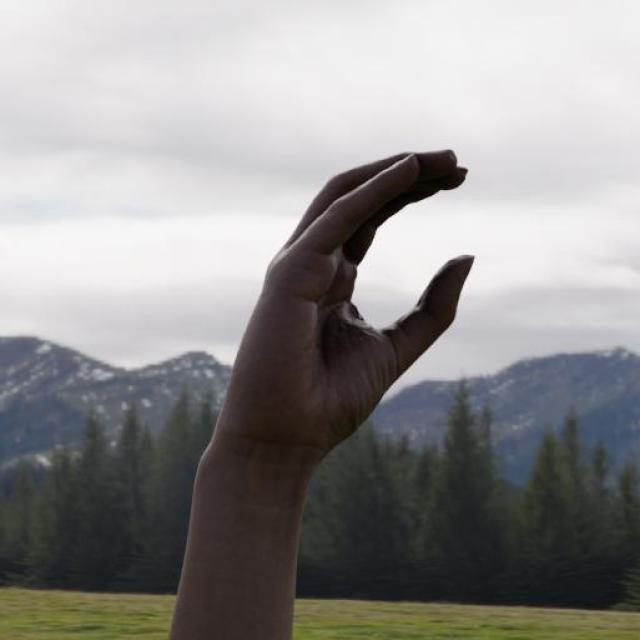C: (193, 148, 476, 456)
